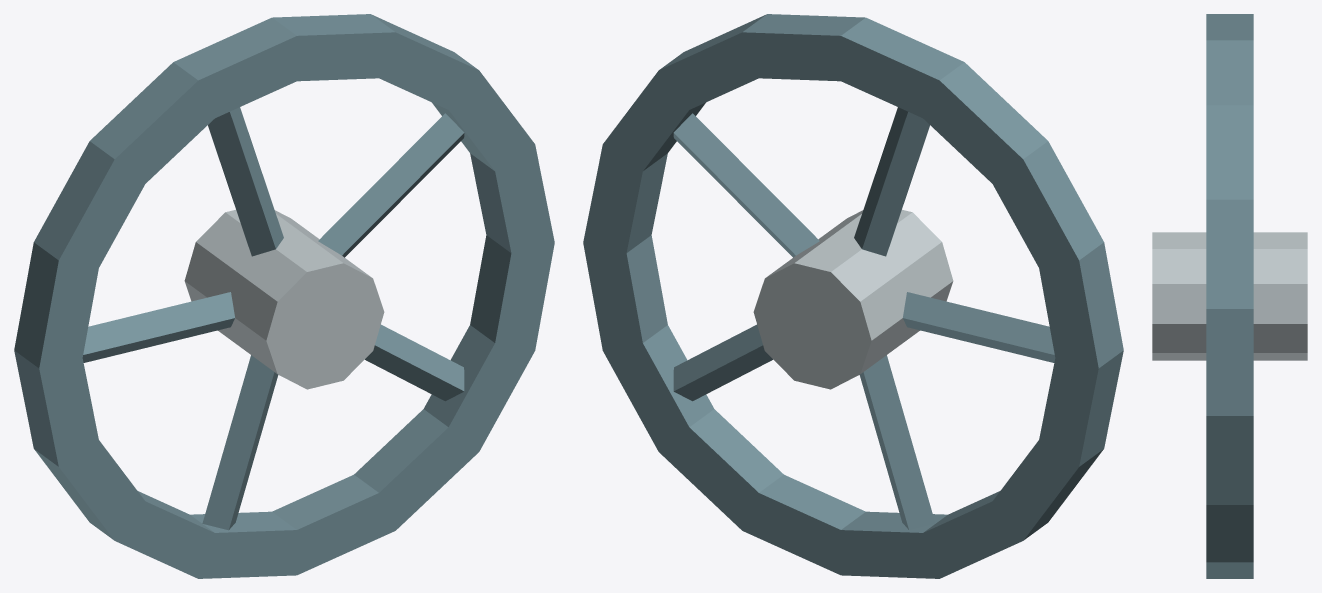
The model's file is body.obj.
3 views of the same model, side by side, from view 1: azimuth 30°, elevation 25°; view 2: azimuth 150°, elevation 25°; view 3: azimuth 270°, elevation 25° (orthographic). The views are drawn at different scales.
Bounding box in the file's own units: 0.4368 × 0.4368 × 0.12.
